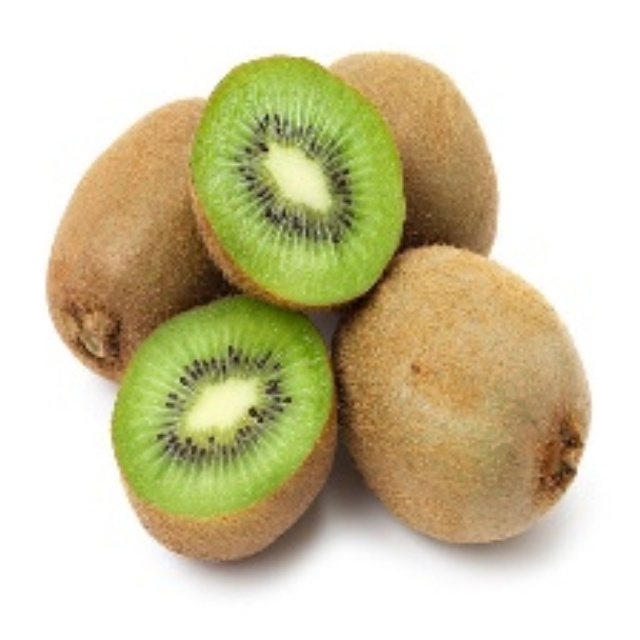kiwi: (307, 243, 608, 568), (117, 289, 344, 592), (51, 91, 235, 380), (196, 54, 405, 304), (322, 40, 521, 267)
